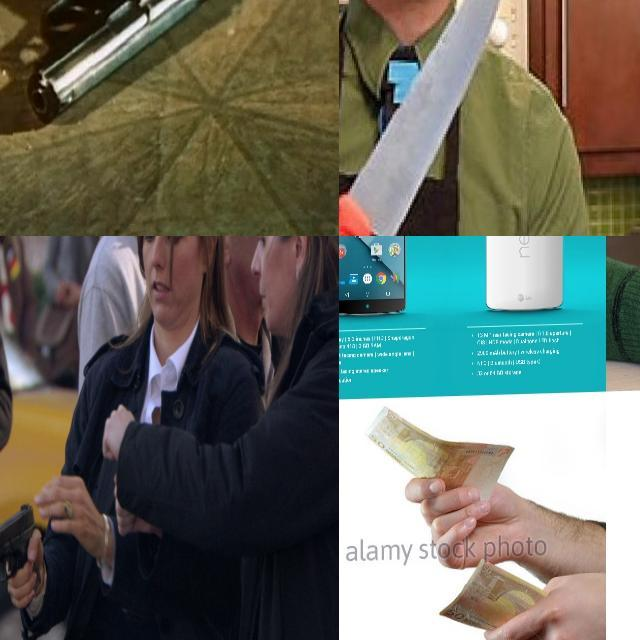-: (339, 0, 510, 236)
gun-knife-thesis - v11 Yolov5 augmented: (14, 0, 228, 149), (0, 491, 50, 640)
